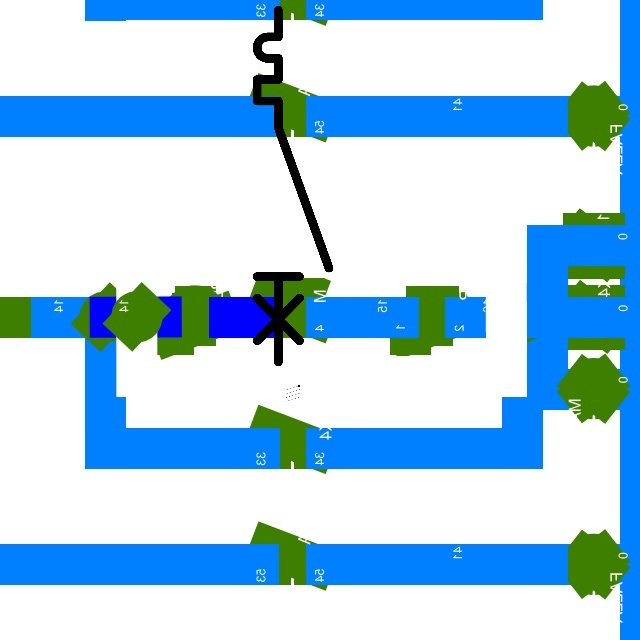interruptor_termomagnetico: (248, 1, 338, 371)
